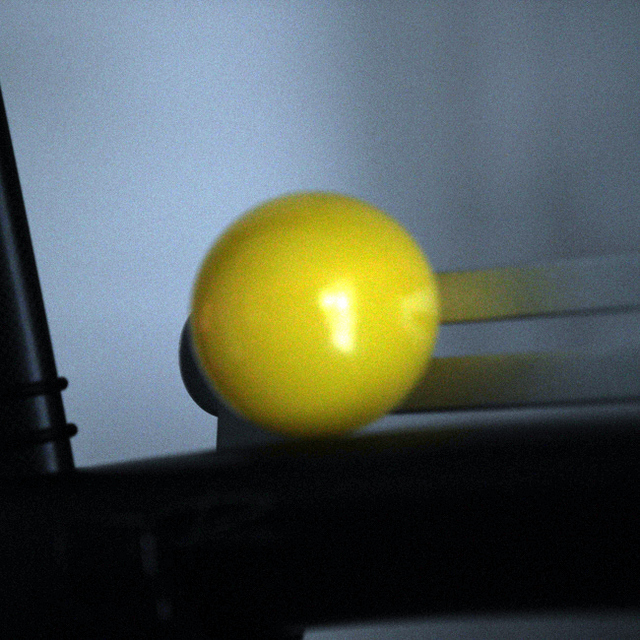Ball: (193, 188, 439, 432)
